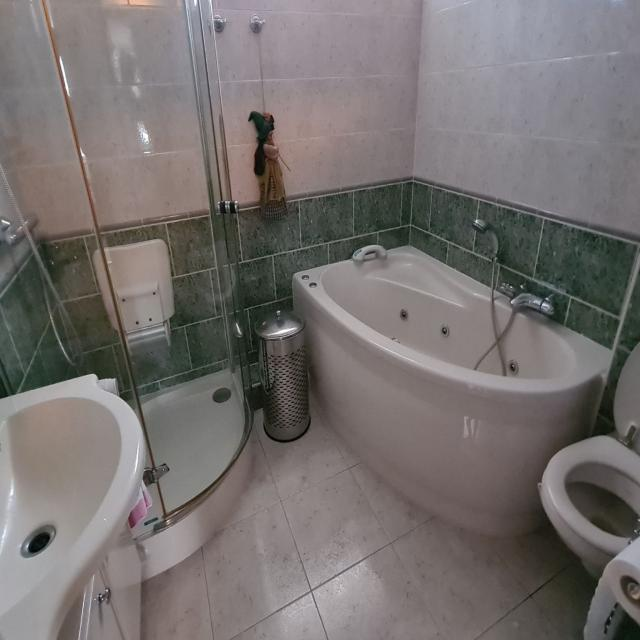bath: (294, 245, 612, 410)
douche: (0, 0, 255, 581)
toilet: (539, 334, 640, 576)
wastafel: (0, 374, 147, 640), (56, 519, 144, 640)
